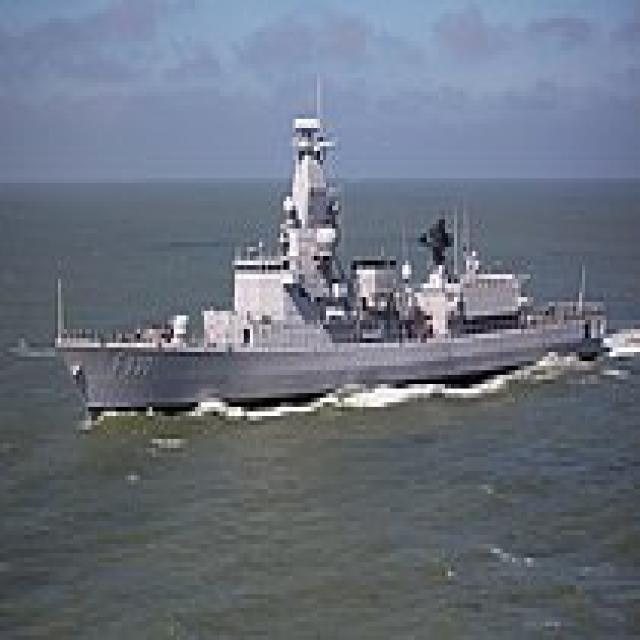Warship: (49, 64, 603, 421)
